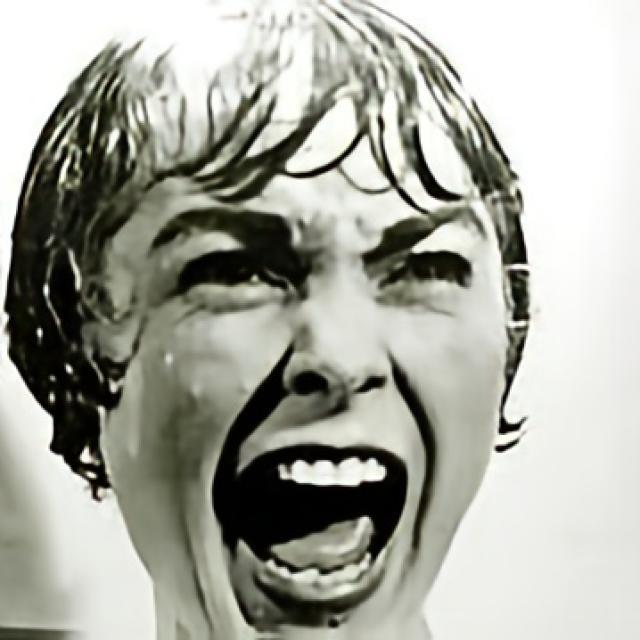fear: (95, 0, 504, 640)
